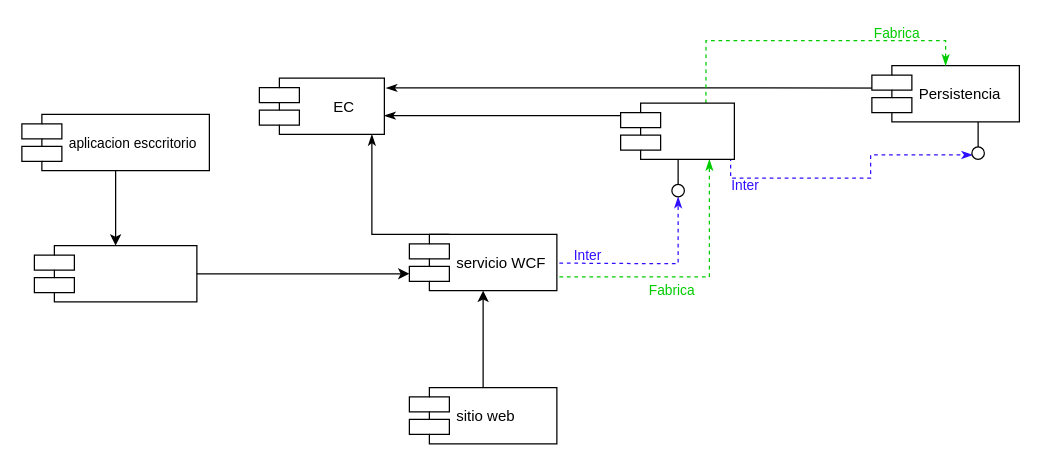
Some shapes in this 1041 by 466 pixel diagram are drawn without their labels. Here are the shapes that lost their labels. From the top down, the centre of each, then its label:
(676,130): Logica
(115,273): servicio windows
